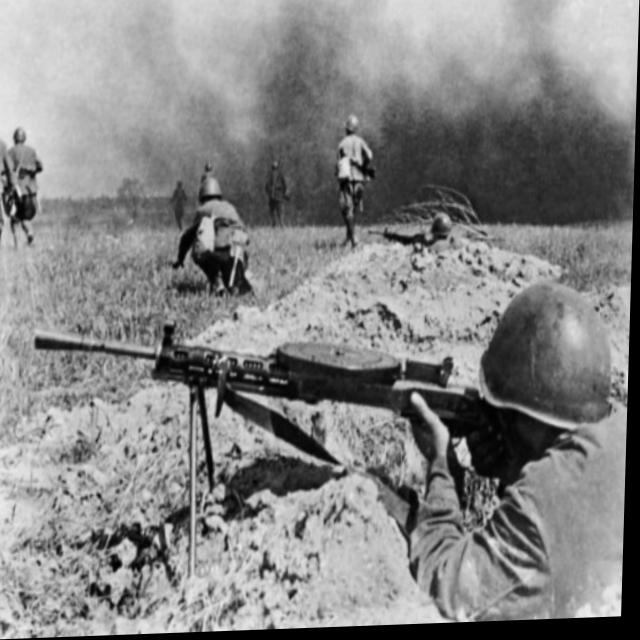other: (434, 292, 632, 626), (314, 115, 383, 254), (0, 118, 57, 262), (408, 215, 470, 255)
